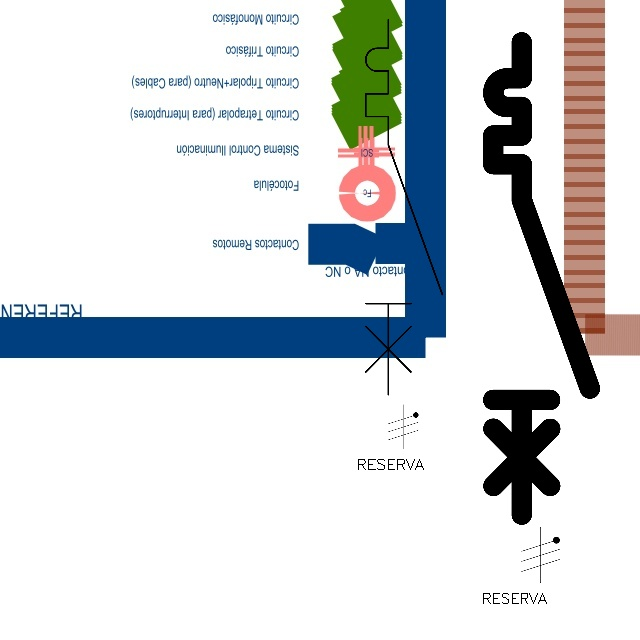interruptor_termomagnetico: (481, 30, 602, 526), (356, 10, 452, 405)
